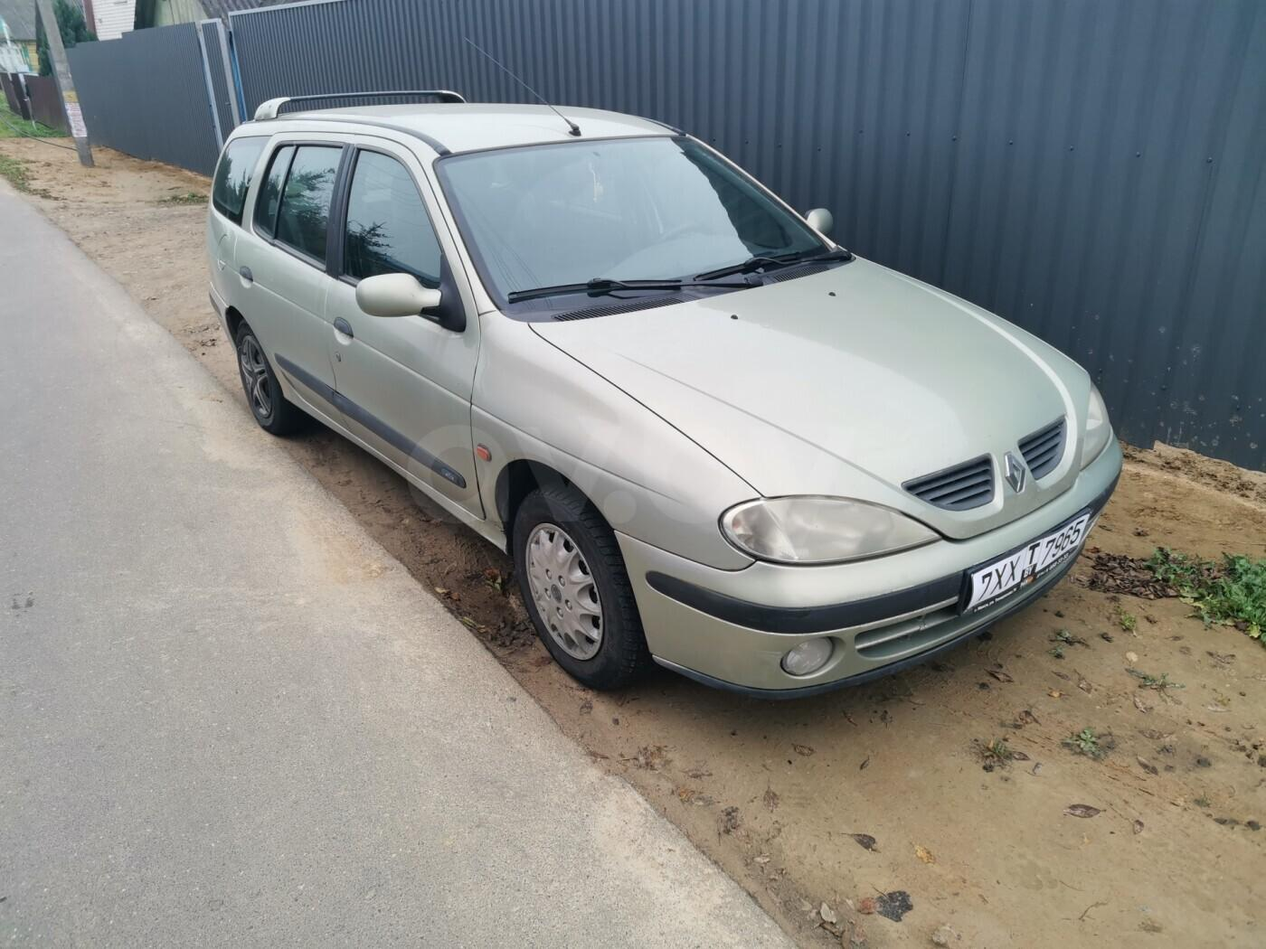Megane_1999-2003: (204, 92, 1126, 699)
